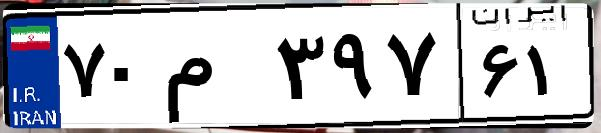0: (110, 28, 158, 98)
1: (525, 38, 570, 115)
3: (270, 28, 330, 110)
6: (475, 38, 525, 113)
7: (385, 28, 445, 110), (57, 26, 110, 100)
9: (330, 28, 385, 110)
م: (158, 20, 270, 120)
